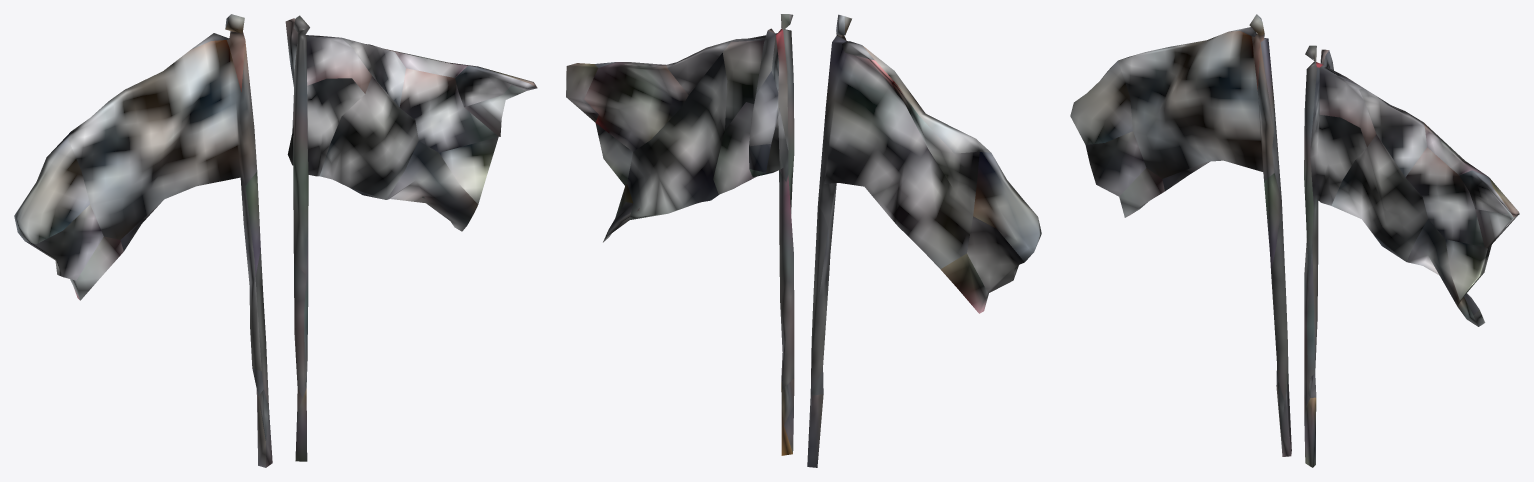
The picture shows the model from 3 angles, left to right: view 1: azimuth 30°, elevation 25°; view 2: azimuth 150°, elevation 25°; view 3: azimuth 330°, elevation 25°; orthographic projection. The views are drawn at different scales.
Bounding box in the file's own units: 0.5414 × 0.4788 × 0.0631.
Materials: 1 (1 with a texture image).
